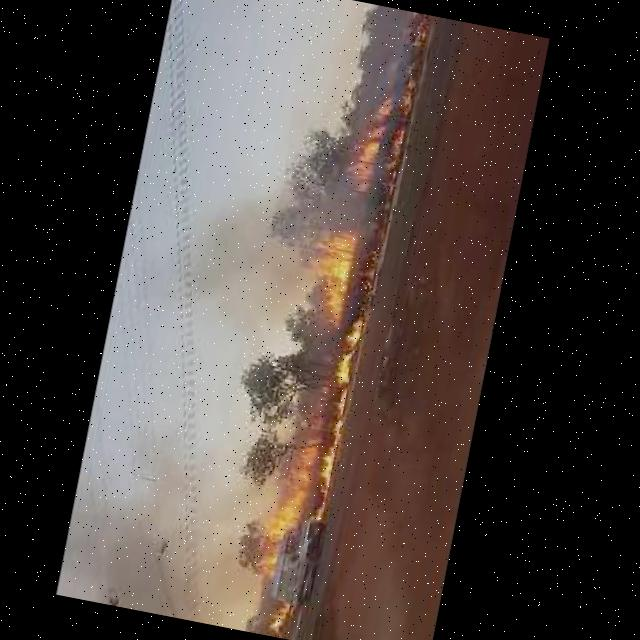fire: (307, 14, 425, 522), (61, 415, 287, 633), (177, 166, 341, 330), (254, 392, 320, 576), (298, 220, 358, 326), (334, 90, 386, 190), (267, 604, 293, 640)
